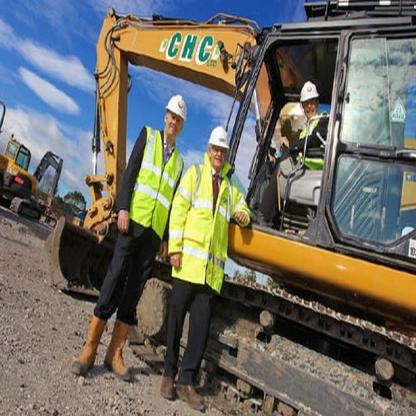person: (67, 67, 184, 401), (185, 122, 253, 411)
